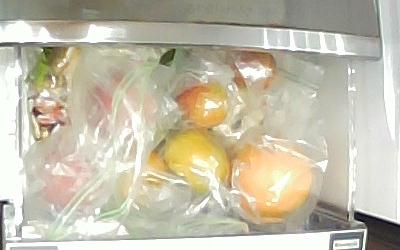grapefruit_vinyl: (232, 139, 313, 224)
persimmon_vinyl: (166, 129, 231, 196), (121, 153, 167, 204)
prune_vinyl: (176, 87, 230, 130), (226, 50, 278, 90)
